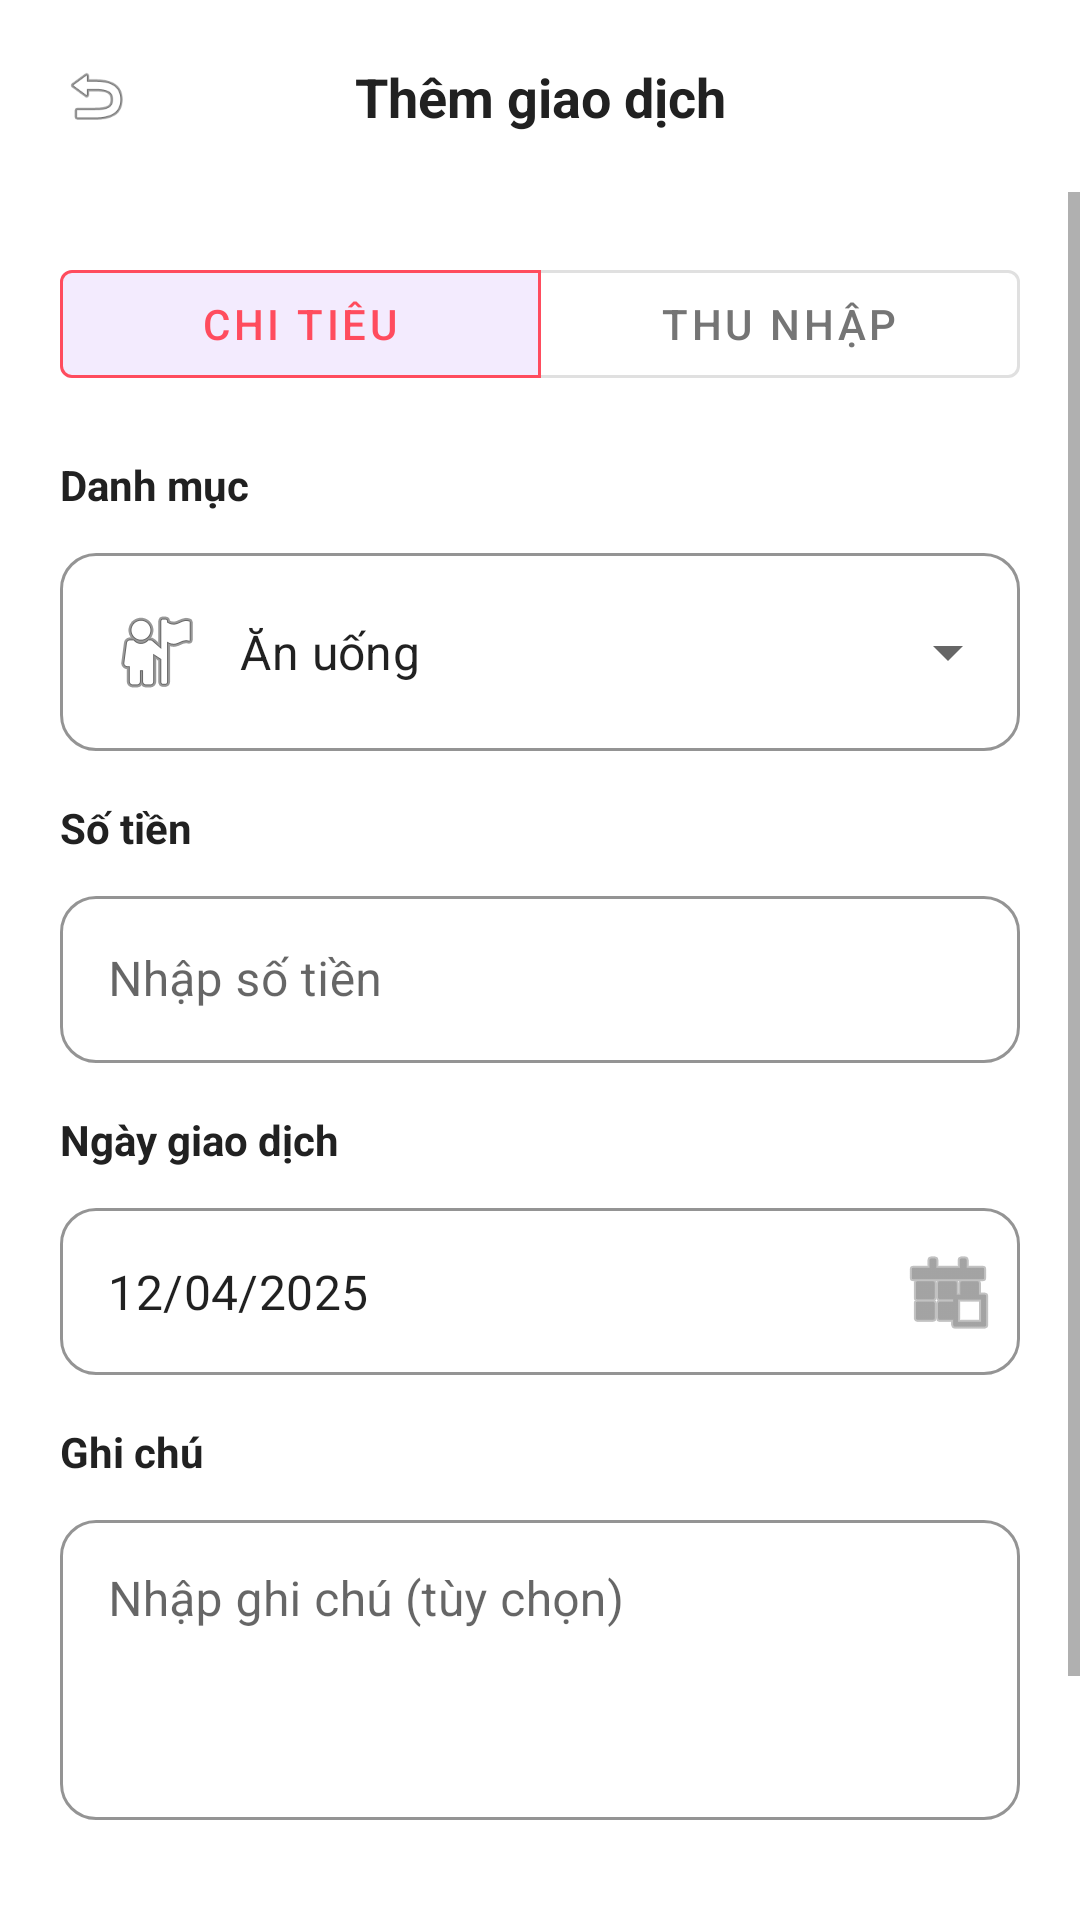

Where to tap for icons on this 1080 x 1920 app screen, as (x=x, y=y):
revert: (x=97, y=96)
